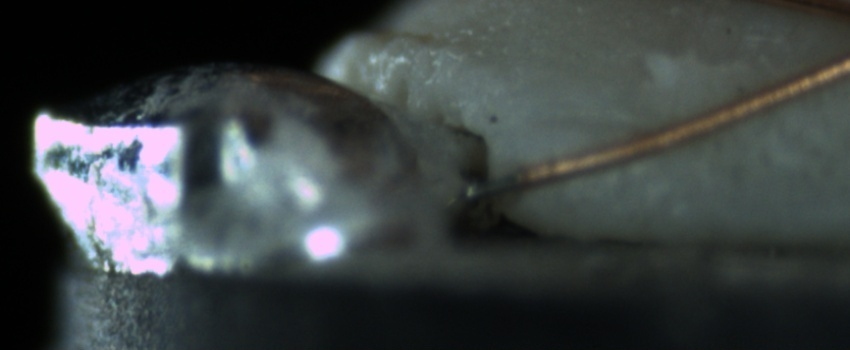DL: (513, 90, 646, 147)
TS: (466, 171, 523, 201)
